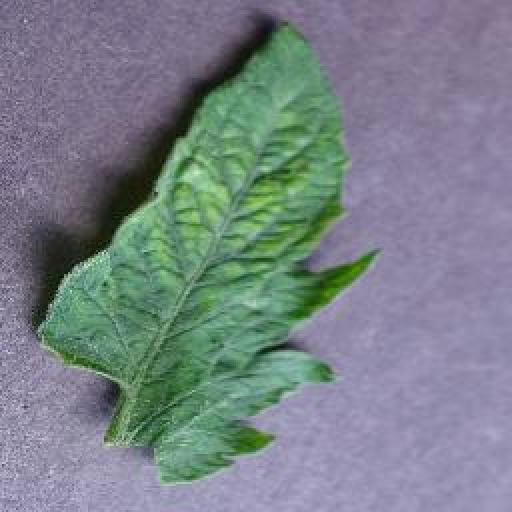disease_tomato: (36, 20, 382, 488)
